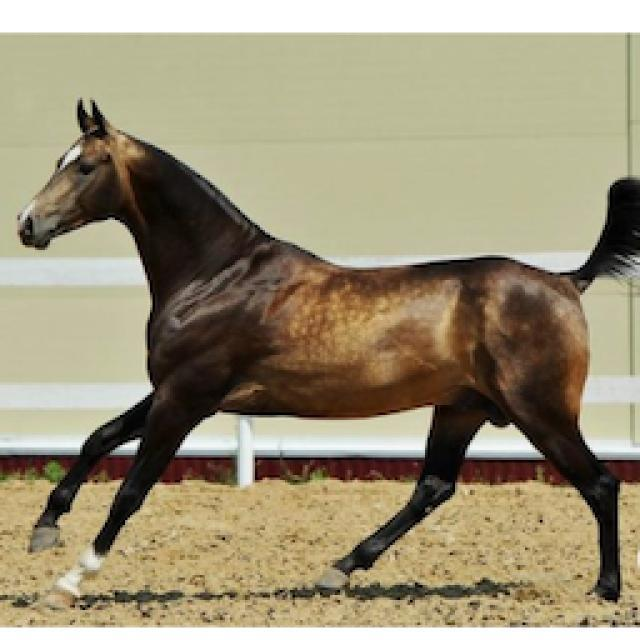Horse: (8, 90, 638, 612)
